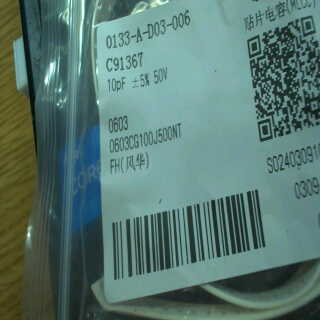10pF: (103, 72, 130, 95)
